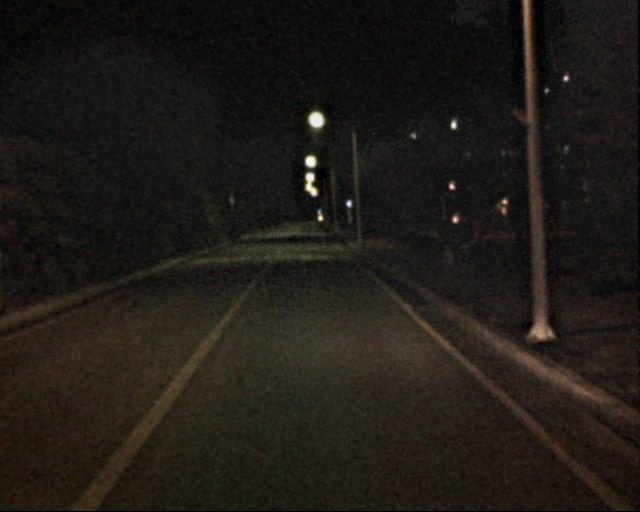person: (451, 214, 475, 273), (436, 216, 459, 272)
